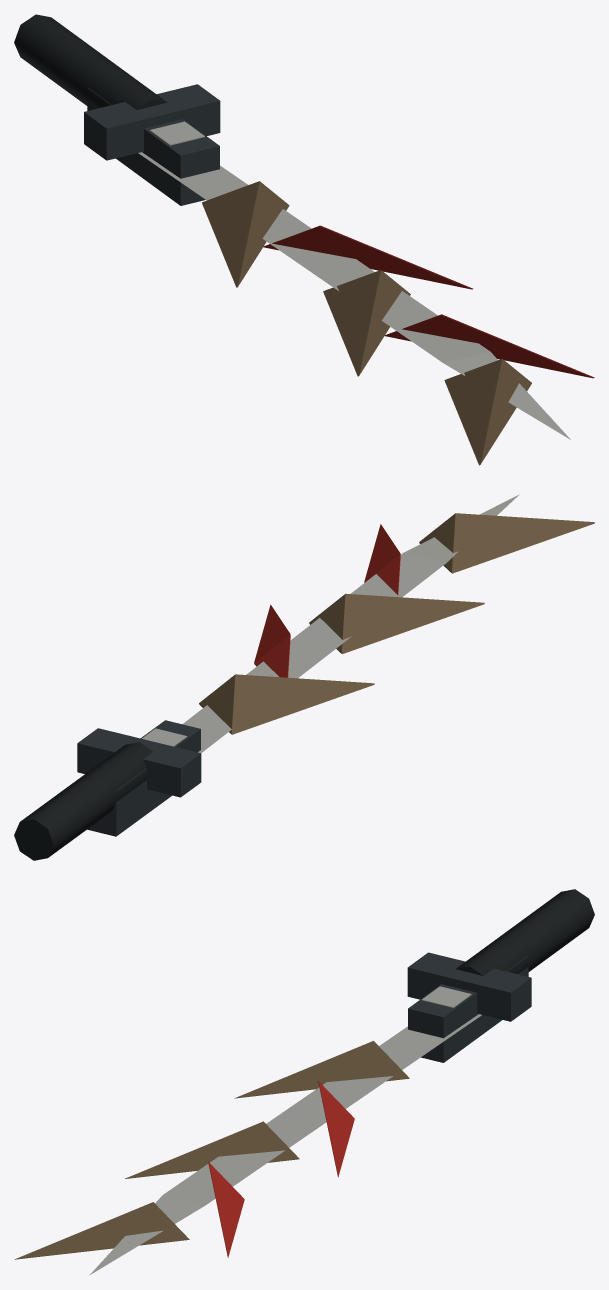
3 renders of one model, top to bottom at view 1: azimuth 30°, elevation 25°; view 2: azimuth 150°, elevation 25°; view 3: azimuth 330°, elevation 25°, orthographic. The views are drawn at different scales.
Visible parts, largest first — view 1: weapon-flame-sword-painted; view 2: weapon-flame-sword-painted; view 3: weapon-flame-sword-painted.
Boxes of the visible parts, left/top/right/bottom form: weapon-flame-sword-painted: left=14, top=14, right=594, bottom=465; weapon-flame-sword-painted: left=14, top=494, right=594, bottom=860; weapon-flame-sword-painted: left=14, top=889, right=594, bottom=1275.
Bounding box in the file's own units: 1.12 × 0.4087 × 5.89.
